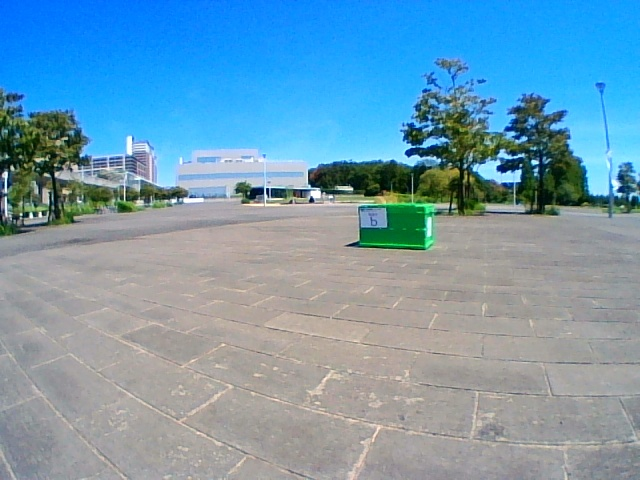green_box: (359, 205, 433, 249)
tag_b: (361, 208, 387, 229)
